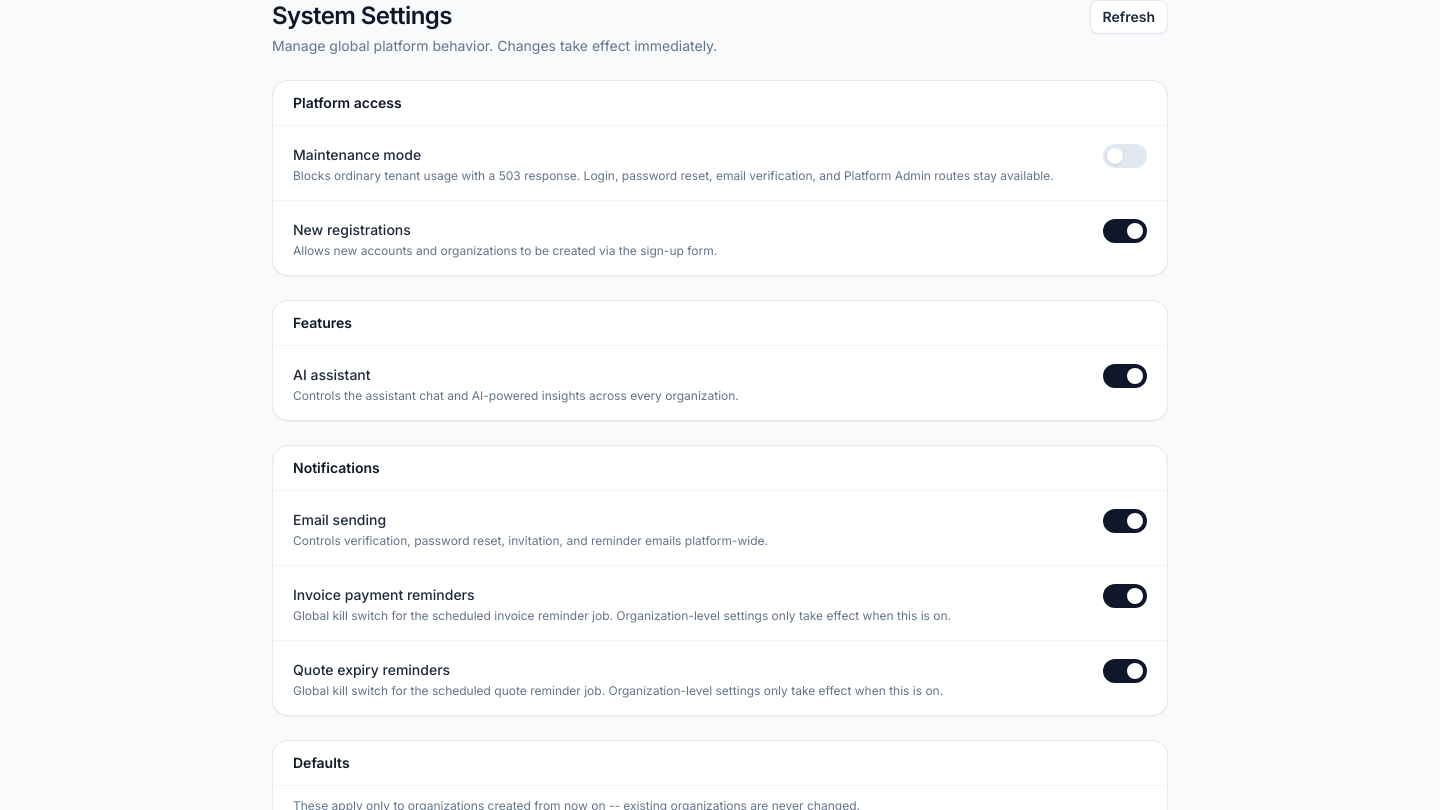
Test case: PlatformSettingsPage › optimistic concurrency › PATCH sends the version originally loaded from GET
The image size is (1440, 810).
Click the switch named "AI assistant" in the row of "AI assistant" at {"x": 1125, "y": 376}, box x1=1103 y1=364 x2=1147 y2=388
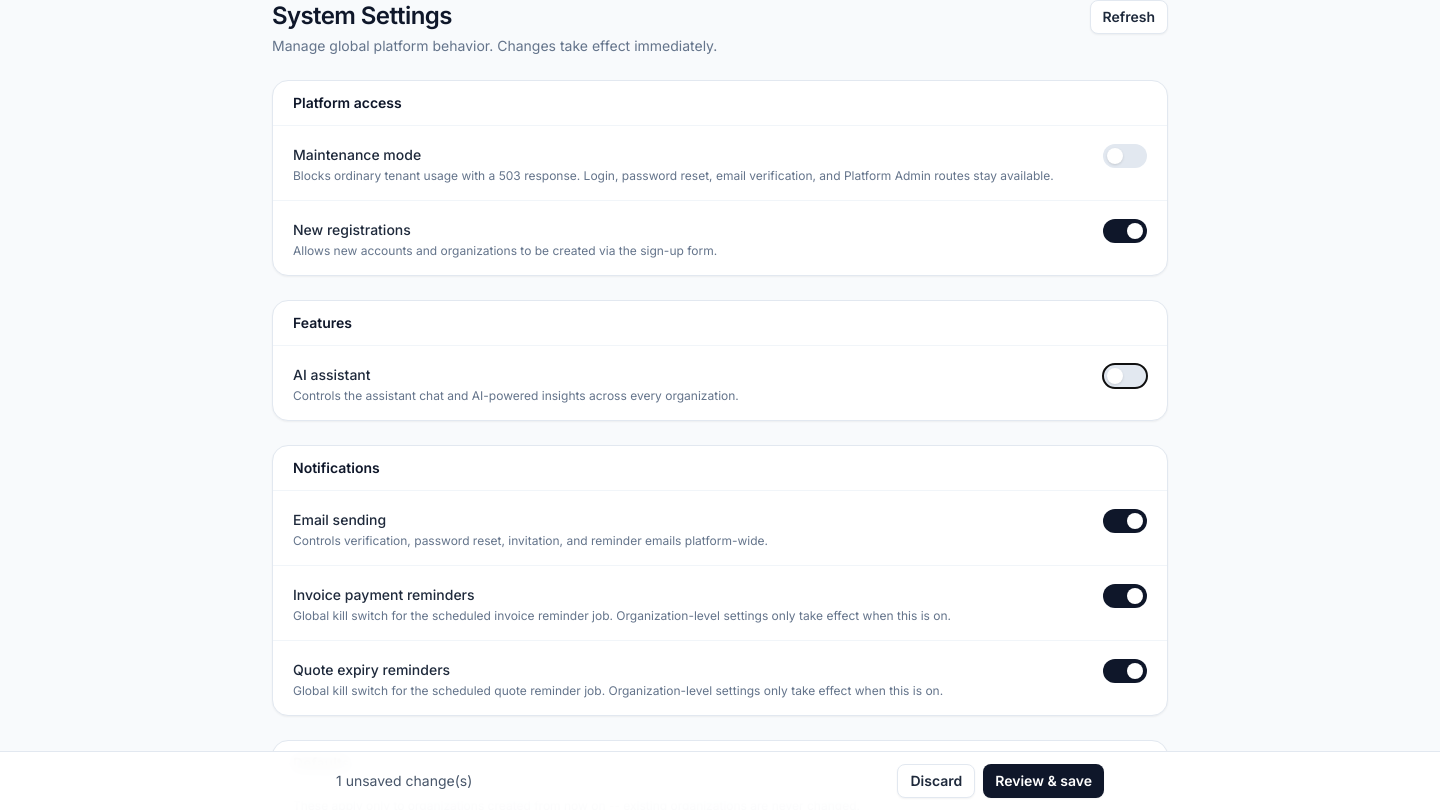
Click the button "Review & save" at {"x": 1044, "y": 781}, box x1=983 y1=764 x2=1104 y2=798
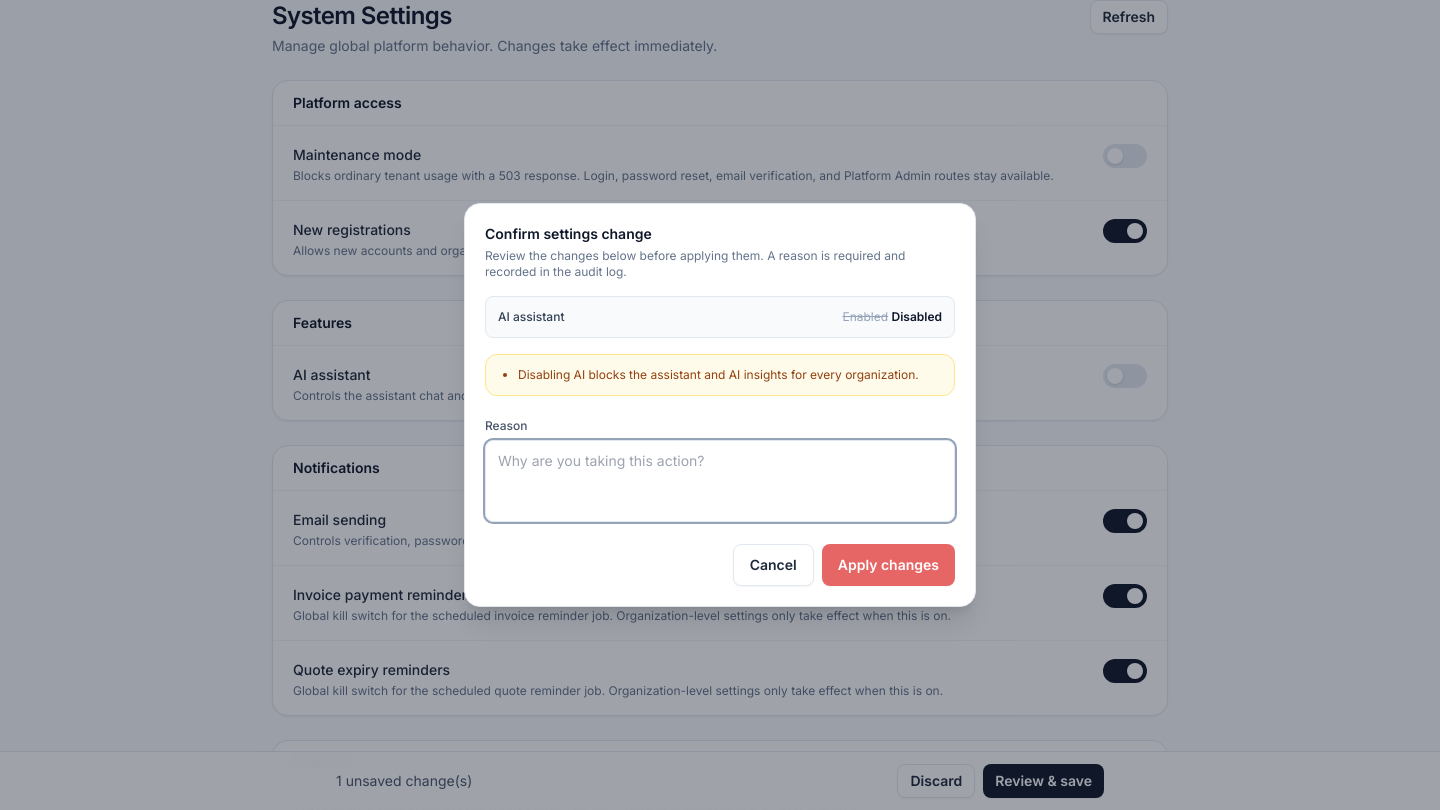
Type "disable AI" into the text box labelled "Reason" at {"x": 720, "y": 481}, box x1=485 y1=440 x2=955 y2=522
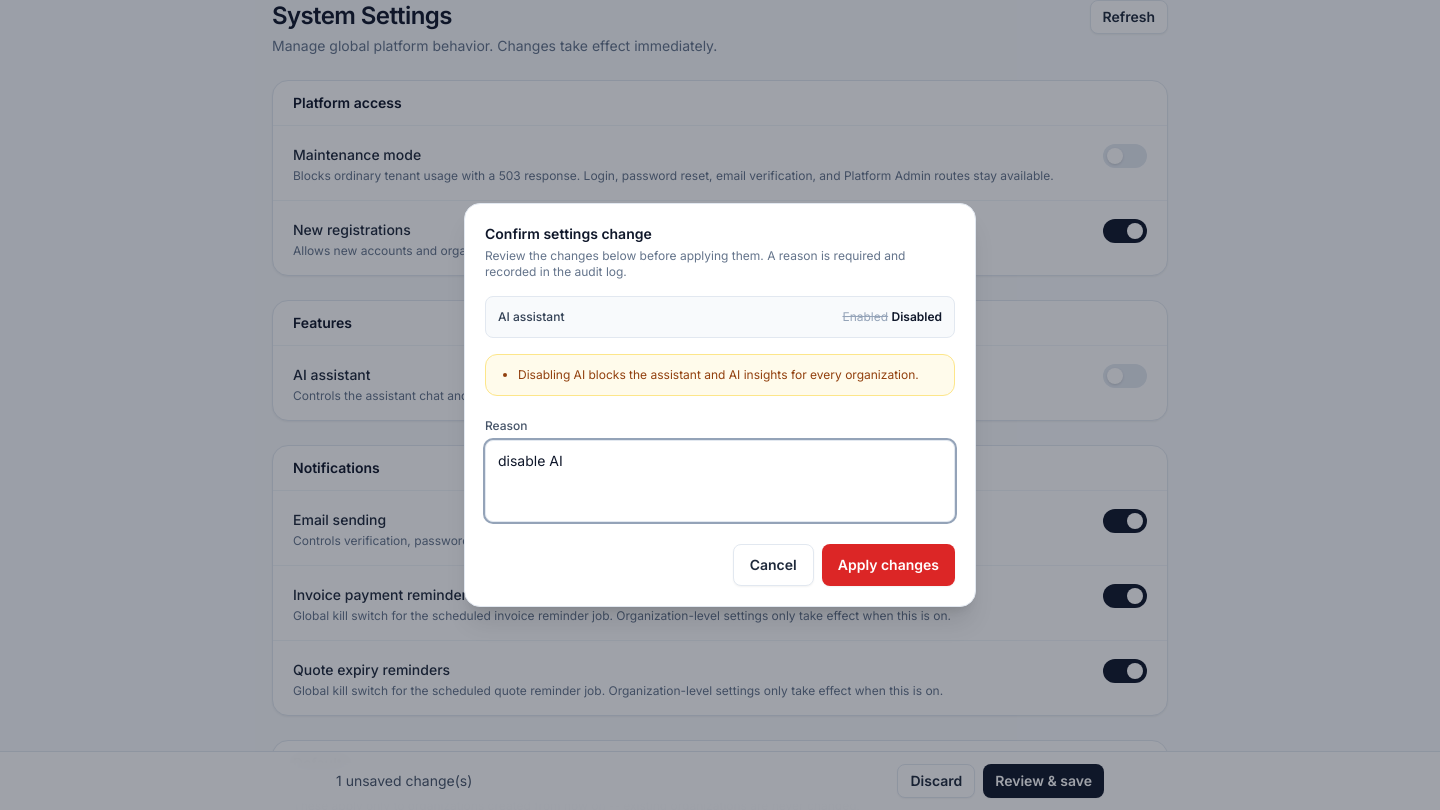
Click the button "Apply changes" at {"x": 888, "y": 565}, box x1=822 y1=544 x2=955 y2=586
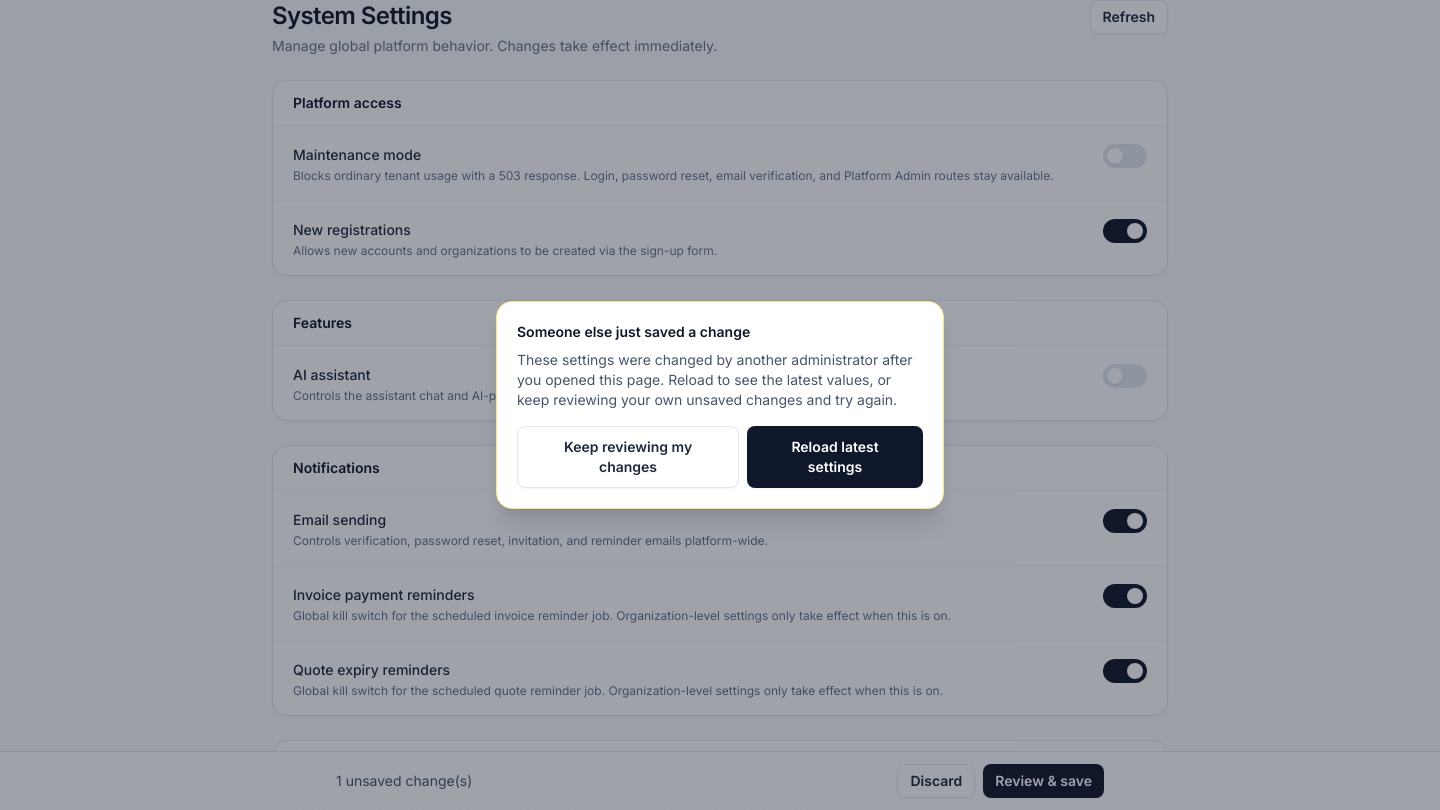
Result: the heading "Someone else just saved a change" is shown at x1=517 y1=323 x2=750 y2=340
